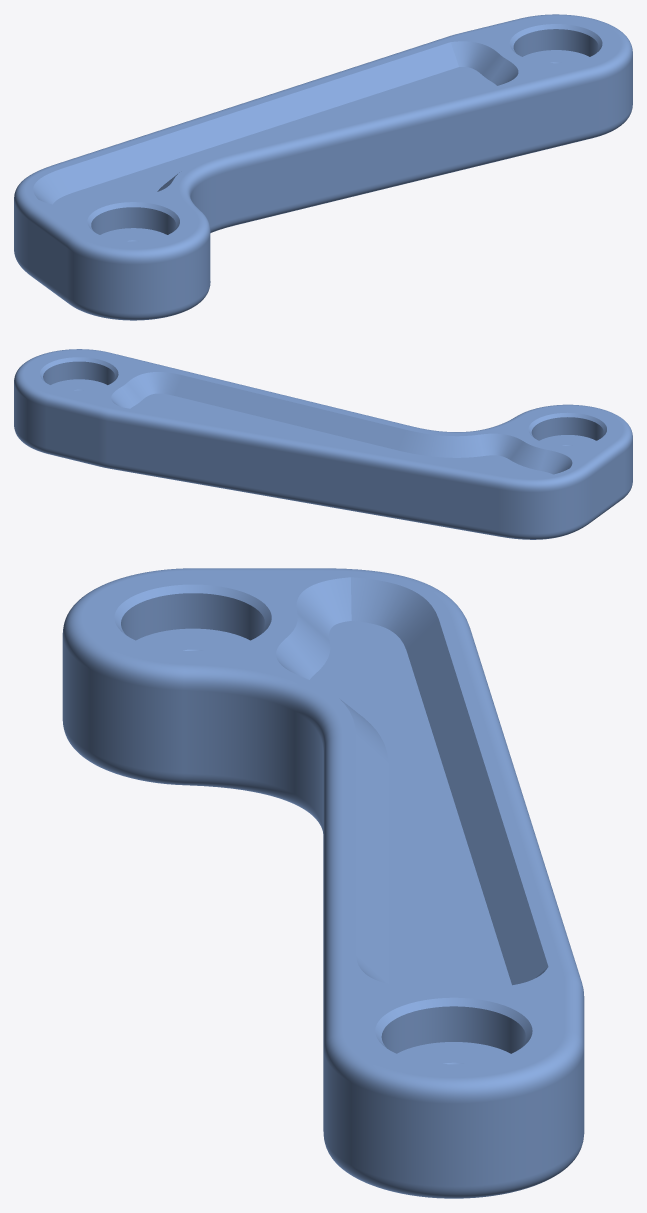
The model's file is arm_1.gltf.
3 views of the same model, one above another, from view 1: azimuth 30°, elevation 25°; view 2: azimuth 150°, elevation 25°; view 3: azimuth 270°, elevation 25° (orthographic). The views are drawn at different scales.
Visible parts, largest first — view 1: arm_1; view 2: arm_1; view 3: arm_1.
Boxes of the visible parts, box(x1,y1,x2,y2) form: arm_1: box(14, 14, 632, 320); arm_1: box(14, 349, 632, 539); arm_1: box(62, 568, 584, 1198).
Bounding box in the file's own units: 0.19 × 0.02 × 0.08.
